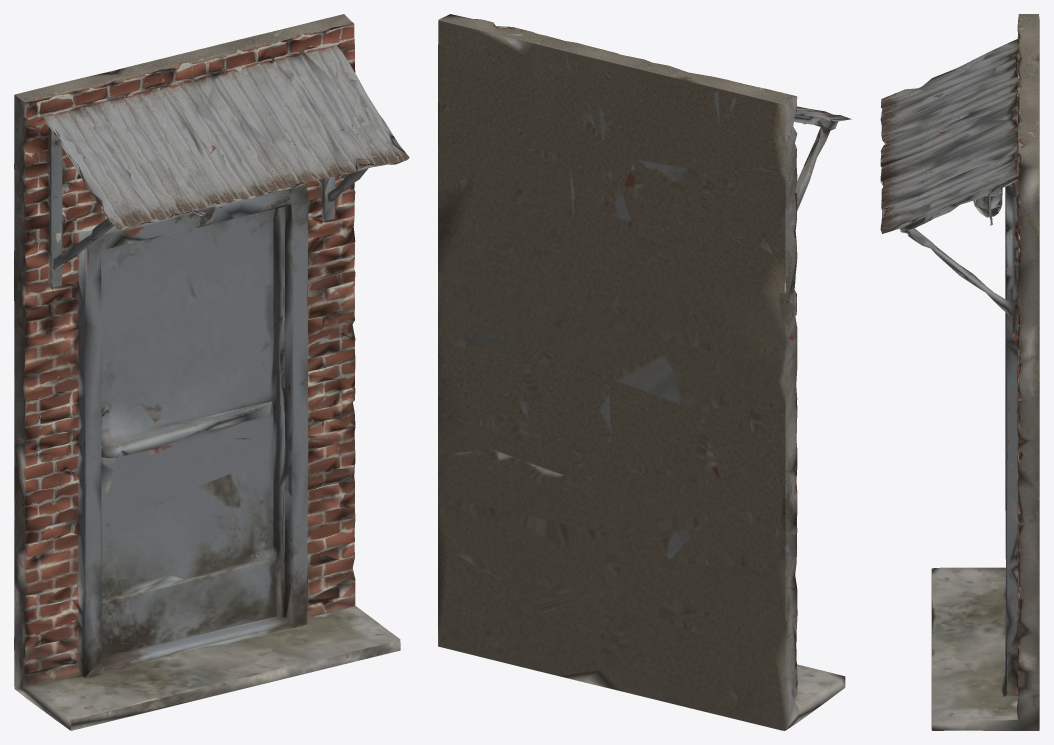
The model's file is porte.glb.
3 renders of one model, left to right at view 1: azimuth 30°, elevation 25°; view 2: azimuth 150°, elevation 25°; view 3: azimuth 270°, elevation 25°, orthographic. The views are drawn at different scales.
Bounding box in the file's own units: 1.11 × 1.9 × 0.4864.
1 material, 1 textured.
